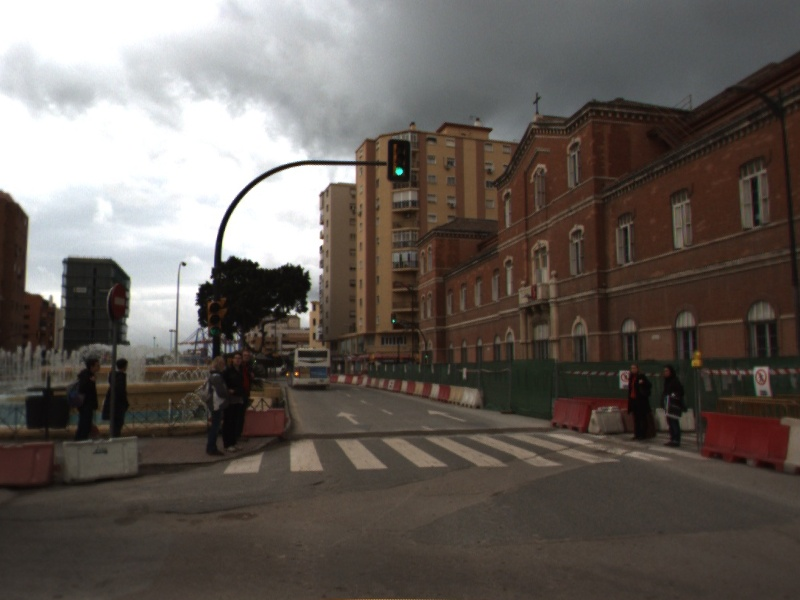STRAIGHT: (426, 407, 471, 424), (334, 409, 363, 427)
